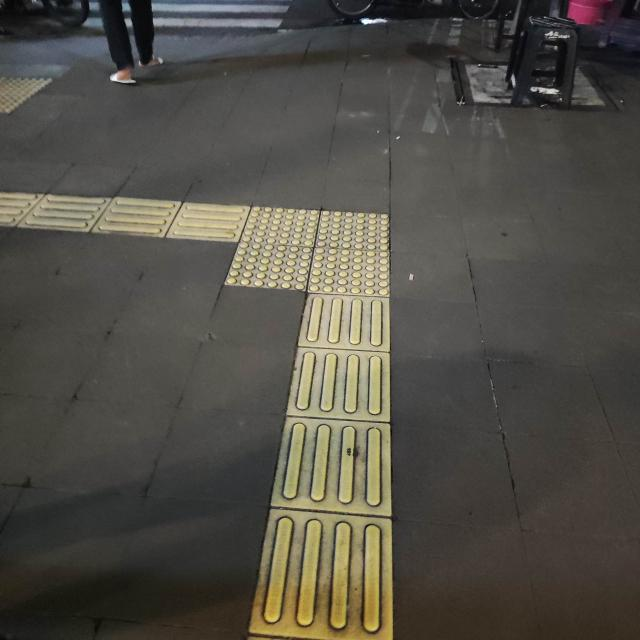kiri: (110, 181, 446, 350)
